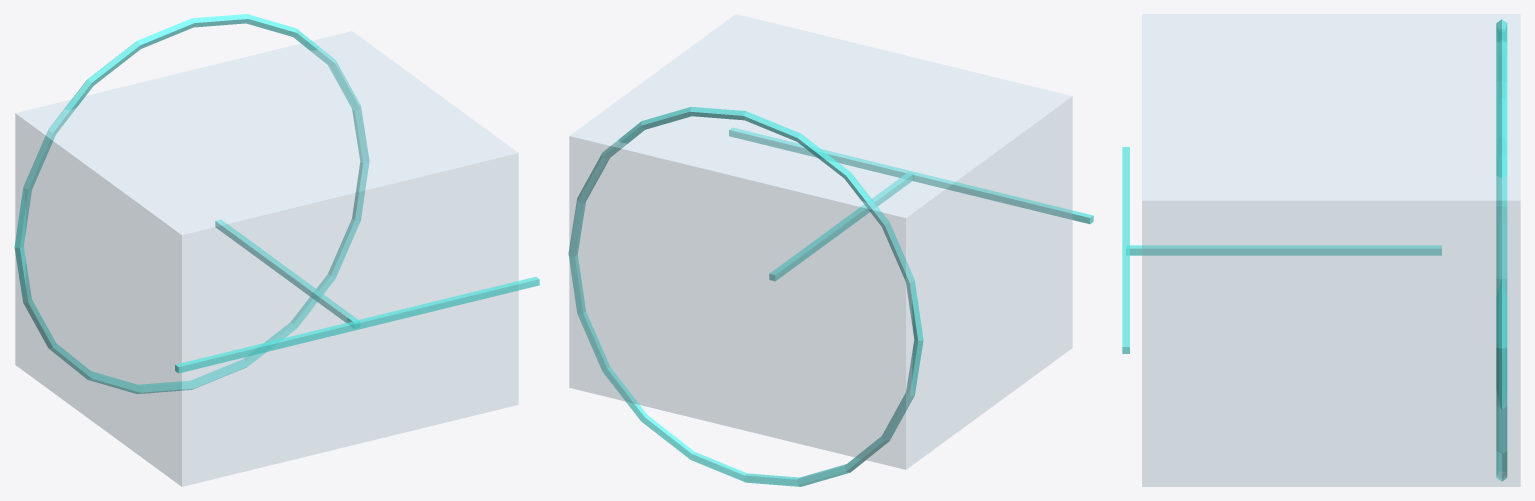
The model's file is 01_box_collider_helper.glb.
3 views of the same model, side by side, from view 1: azimuth 30°, elevation 25°; view 2: azimuth 150°, elevation 25°; view 3: azimuth 270°, elevation 25° (orthographic). The views are drawn at different scales.
Visible parts, largest first — view 1: transparent_volume, helper_ring, axis_x, axis_z; view 2: transparent_volume, helper_ring, axis_x, axis_z; view 3: transparent_volume, helper_ring, axis_z, axis_x.
Part boxes in pixels (x1,y1,x2,y2): transparent_volume: [15, 31, 518, 486]; helper_ring: [14, 14, 369, 393]; axis_x: [175, 276, 539, 373]; axis_z: [215, 219, 359, 328]; transparent_volume: [569, 14, 1072, 469]; helper_ring: [568, 106, 923, 486]; axis_x: [729, 127, 1093, 224]; axis_z: [769, 172, 913, 281]; transparent_volume: [1142, 14, 1520, 486]; helper_ring: [1496, 19, 1507, 481]; axis_z: [1126, 245, 1441, 255]; axis_x: [1122, 147, 1129, 353].
Size of the model in its own units: 1.5 by 1.48 by 1.26.
